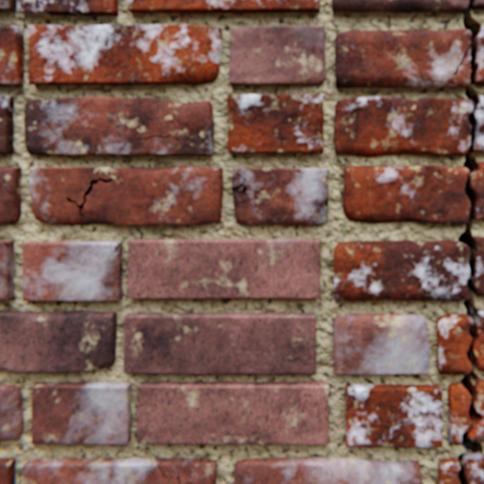brick: (138, 380, 328, 443), (124, 312, 315, 373), (129, 238, 320, 298), (29, 26, 222, 85), (31, 166, 223, 224), (26, 97, 214, 155), (0, 310, 117, 371), (33, 381, 132, 443), (345, 383, 441, 446), (24, 241, 123, 300), (333, 313, 428, 373), (229, 26, 325, 85), (228, 95, 323, 153), (232, 168, 328, 224), (235, 456, 422, 483), (25, 457, 217, 483), (129, 0, 319, 14), (19, 0, 119, 16), (0, 27, 25, 86), (0, 383, 25, 439), (0, 166, 22, 223), (0, 240, 15, 299), (0, 96, 15, 153), (0, 456, 16, 483), (0, 0, 17, 12), (129, 0, 135, 4)
broken_brick: (334, 97, 472, 156), (334, 240, 469, 299), (335, 29, 470, 88), (342, 165, 469, 223), (436, 313, 471, 373), (332, 0, 468, 13), (447, 381, 470, 443), (468, 379, 483, 440), (471, 162, 483, 219), (472, 236, 483, 295), (464, 453, 483, 483), (473, 95, 483, 152), (473, 27, 483, 84), (438, 456, 459, 483), (474, 309, 483, 369), (471, 0, 483, 10)
crack: (450, 0, 482, 483), (67, 177, 119, 216), (232, 177, 263, 204), (160, 466, 180, 483), (153, 135, 179, 140), (129, 0, 138, 9), (114, 242, 119, 252), (187, 480, 198, 483)
